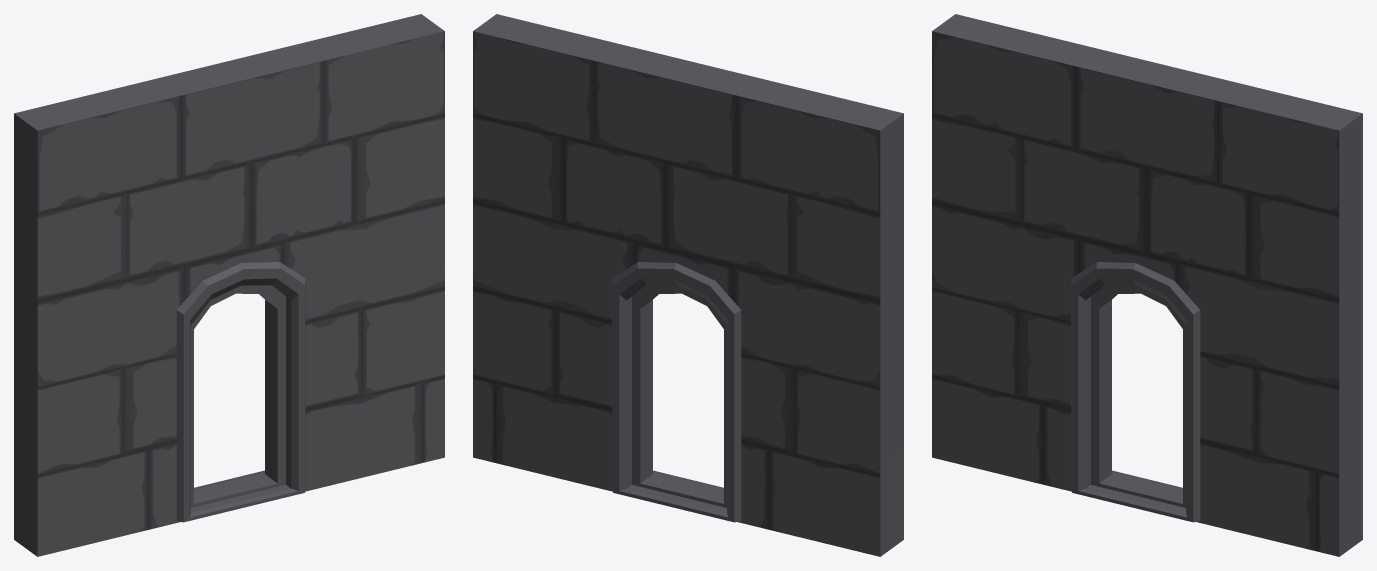
The model's file is castle_wall_door.gltf.
3 renders of one model, left to right at view 1: azimuth 30°, elevation 25°; view 2: azimuth 150°, elevation 25°; view 3: azimuth 330°, elevation 25°, orthographic.
Parts seen in each view (by area): view 1: castle_wall_door; view 2: castle_wall_door; view 3: castle_wall_door.
Part boxes in pixels (left/top/right/bottom): castle_wall_door: left=14, top=14, right=444, bottom=556; castle_wall_door: left=473, top=14, right=903, bottom=556; castle_wall_door: left=932, top=14, right=1362, bottom=556.
Size of the model in its own units: 5 by 5 by 0.6254.
1 material, 1 textured.
